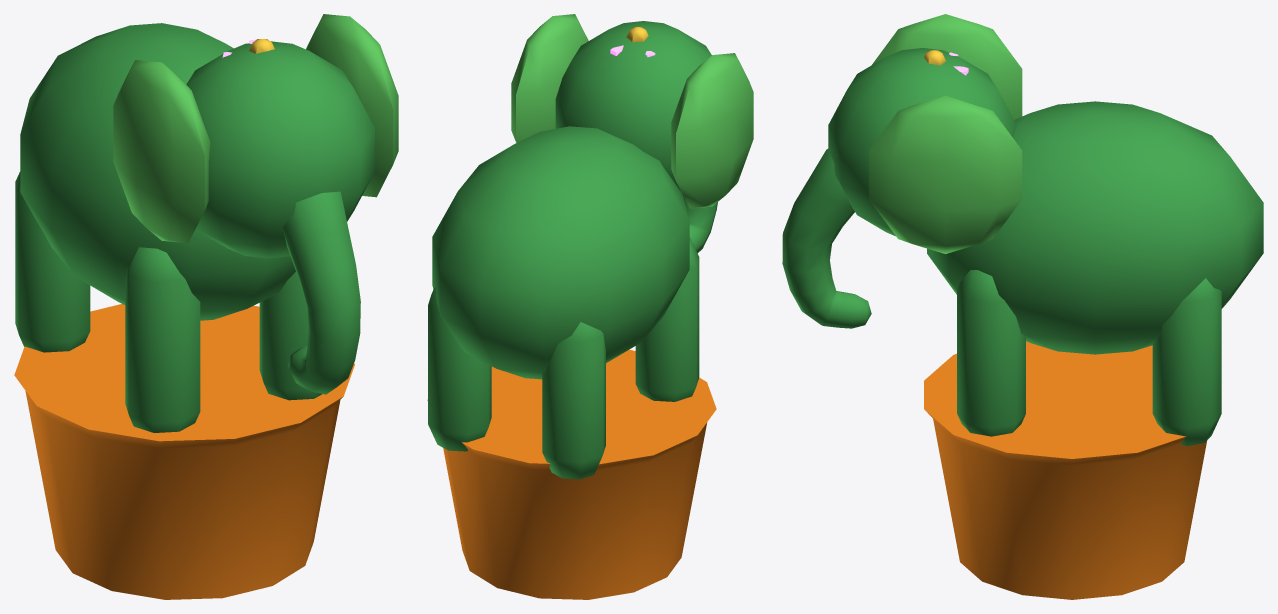
The model's file is W1_Topiary_B.fbx.
The picture shows the model from 3 angles, left to right: view 1: azimuth 30°, elevation 25°; view 2: azimuth 150°, elevation 25°; view 3: azimuth 270°, elevation 25°; orthographic projection. The views are drawn at different scales.
Visible parts, largest first — view 1: W1_Topiary_B; view 2: W1_Topiary_B; view 3: W1_Topiary_B.
Boxes of the visible parts, x1,y1,x2,y2 form: W1_Topiary_B: (14, 14, 398, 599); W1_Topiary_B: (427, 14, 753, 599); W1_Topiary_B: (782, 14, 1263, 599).
Size of the model in its own units: 1.32 by 2.4 by 2.09.
